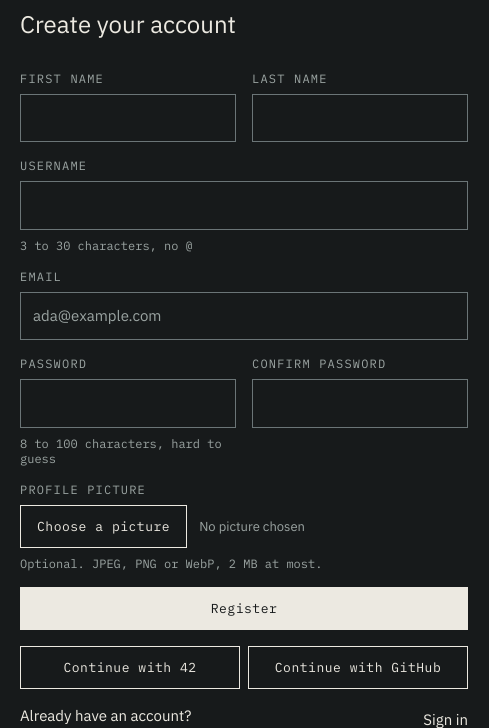
Test: RegisterPage › blocks submission and shows field errors when the form is invalid
Click the button "Register".
click(244, 608)  # box [20,587,468,630]
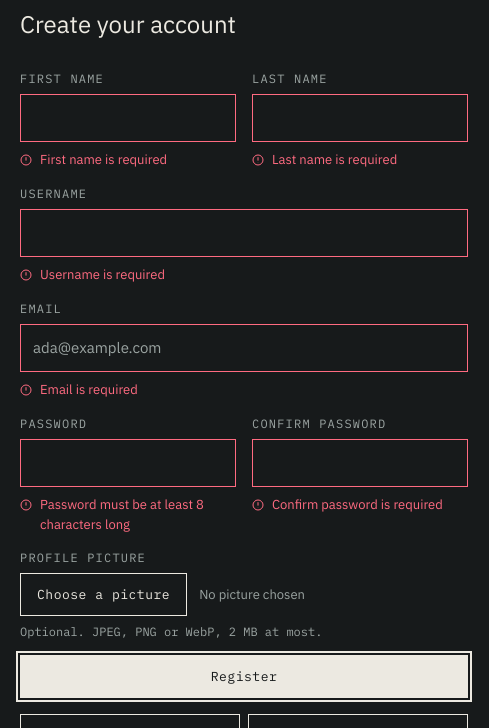
Expected: the text "Email is required" is shown, [40,380,138,400]
